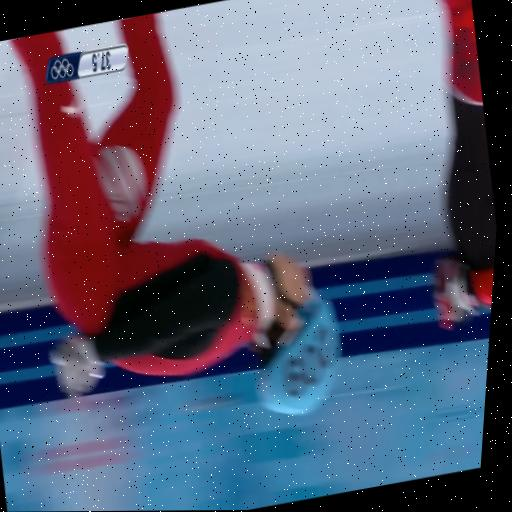Skater: (10, 14, 338, 413)
